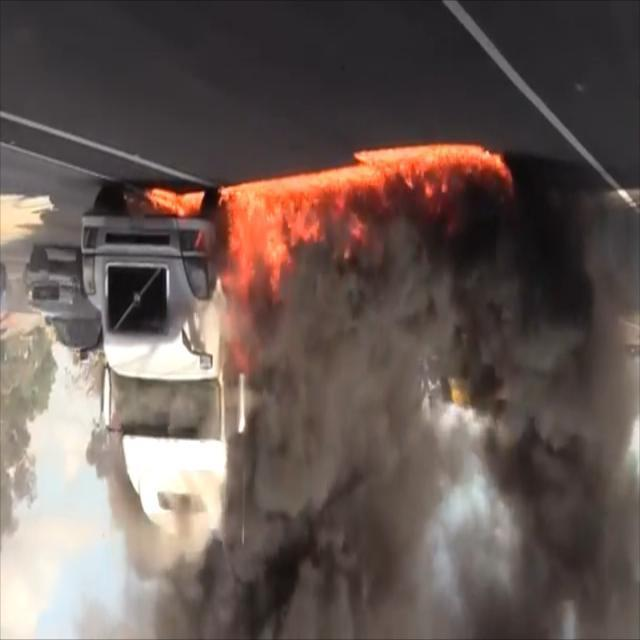fire: (153, 150, 503, 358)
